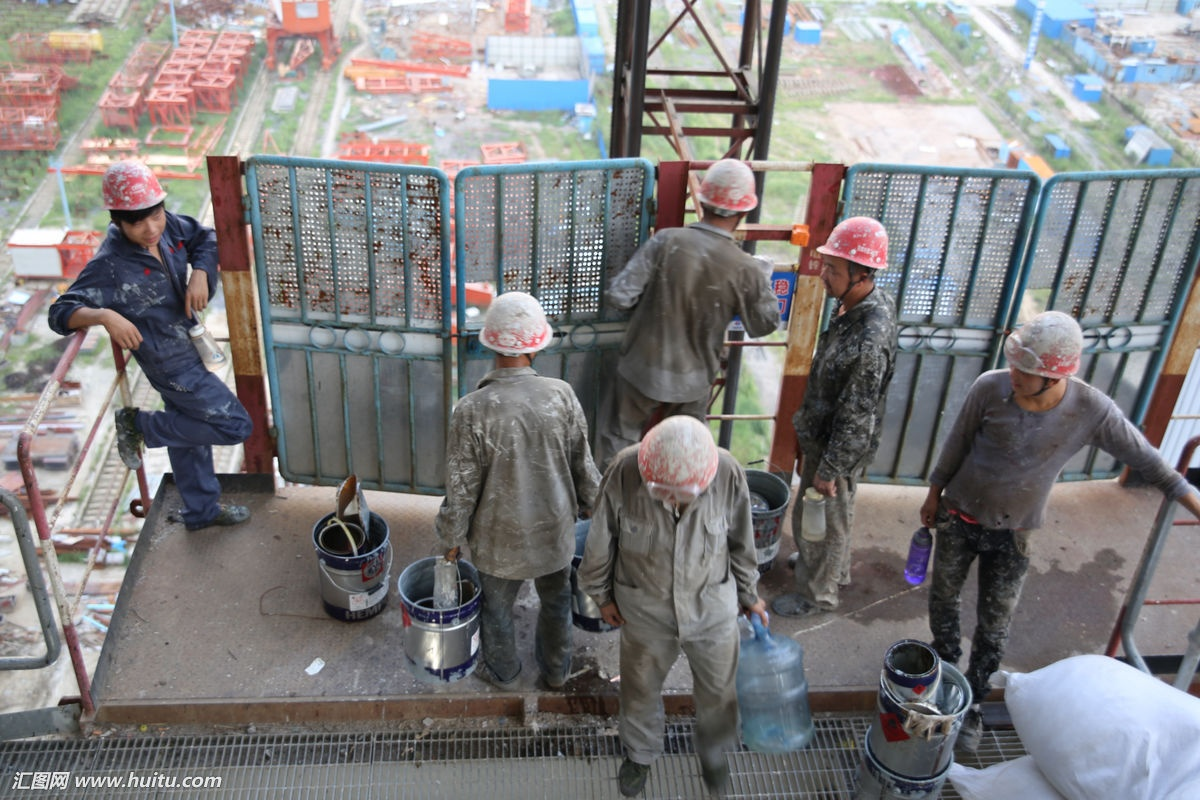red: (1001, 305, 1086, 405), (634, 414, 721, 506), (472, 285, 557, 379), (96, 157, 175, 248), (816, 210, 890, 302), (693, 148, 757, 232)
